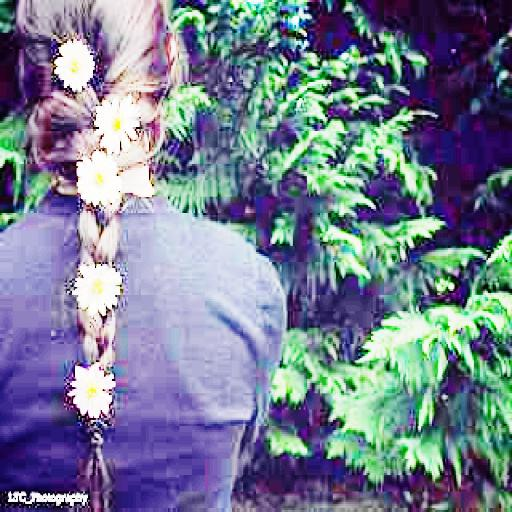daisy: (94, 96, 142, 156), (74, 154, 123, 206), (70, 366, 116, 414), (77, 262, 120, 311), (58, 41, 91, 94)
